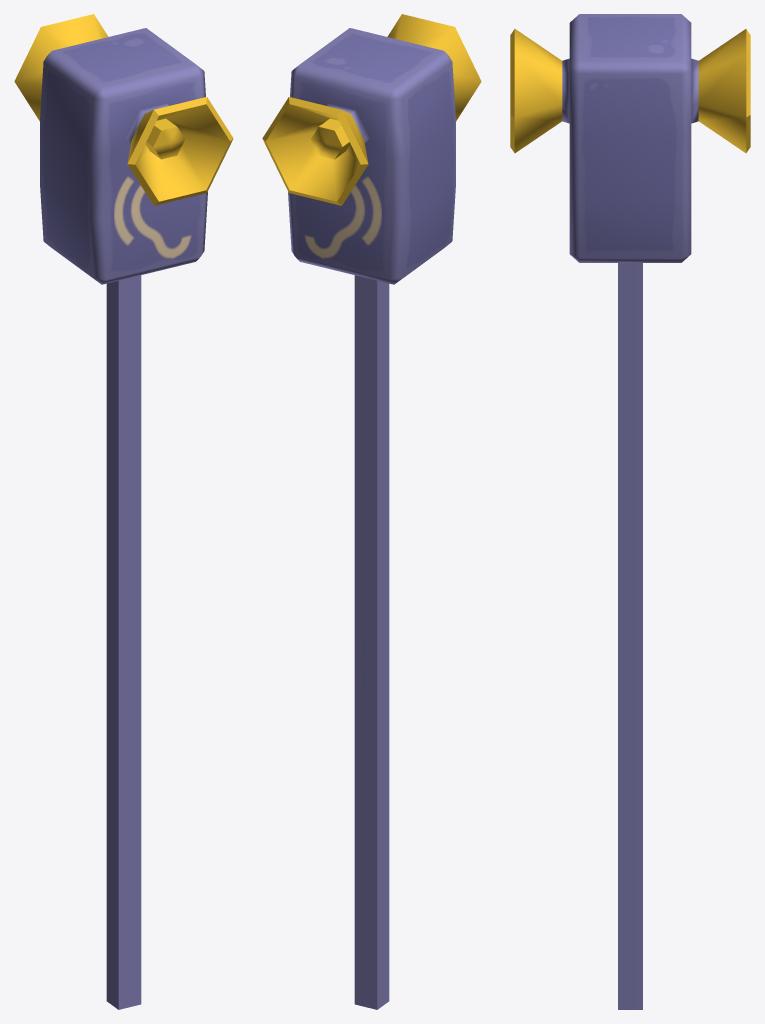
The model's file is borne_sonore_sol.fbx.
3 renders of one model, left to right at view 1: azimuth 30°, elevation 25°; view 2: azimuth 150°, elevation 25°; view 3: azimuth 270°, elevation 25°, orthographic. The views are drawn at different scales.
Visible parts, largest first — view 1: borne_sonore_sol; view 2: borne_sonore_sol; view 3: borne_sonore_sol.
Boxes of the visible parts, x1,y1,x2,y2 form: borne_sonore_sol: (14,14,233,1009); borne_sonore_sol: (262,14,481,1009); borne_sonore_sol: (510,14,750,1009).
Bounding box in the file's own units: 0.2424 × 1.85 × 0.4167.
